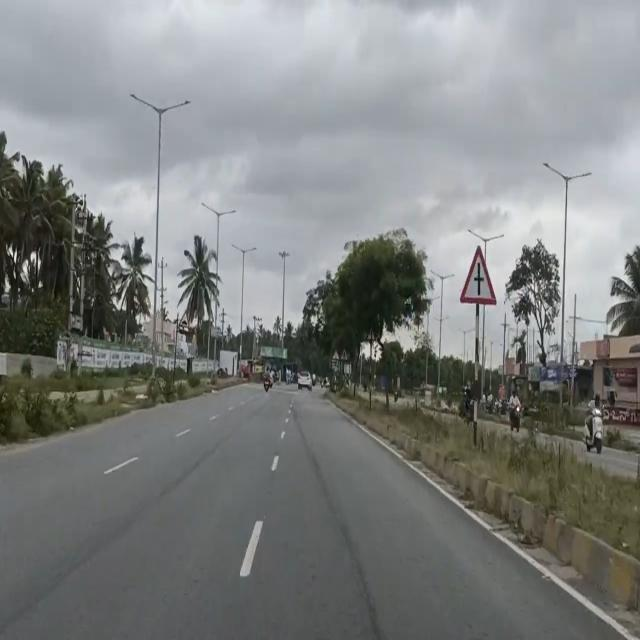bien_cam: (460, 241, 498, 309), (333, 348, 348, 362)
